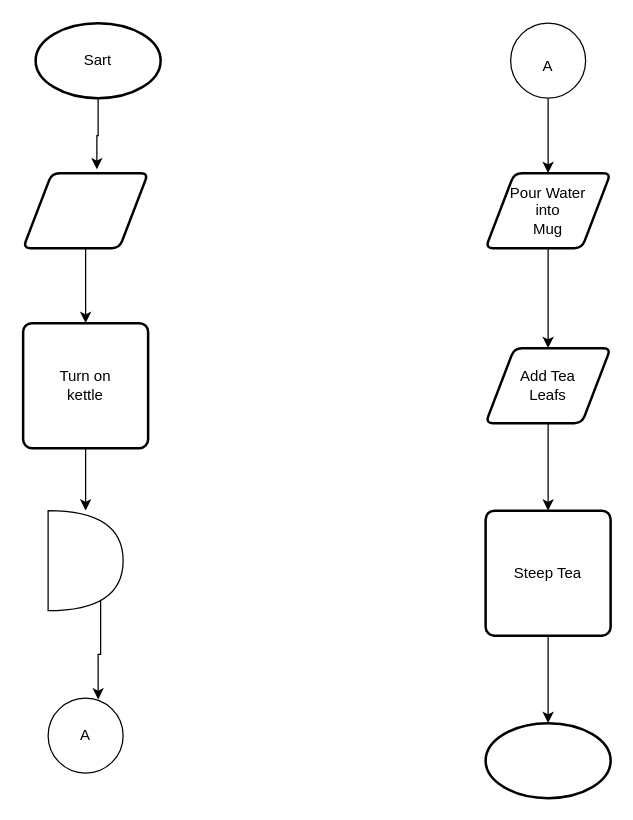
Some shapes in this 633 by 820 pixel diagram are drawn without their labels. Each missing label, with the centre of its shape:
Boil Water: (85,560)
End: (547,760)
Pour Water into Kettle: (85,210)
